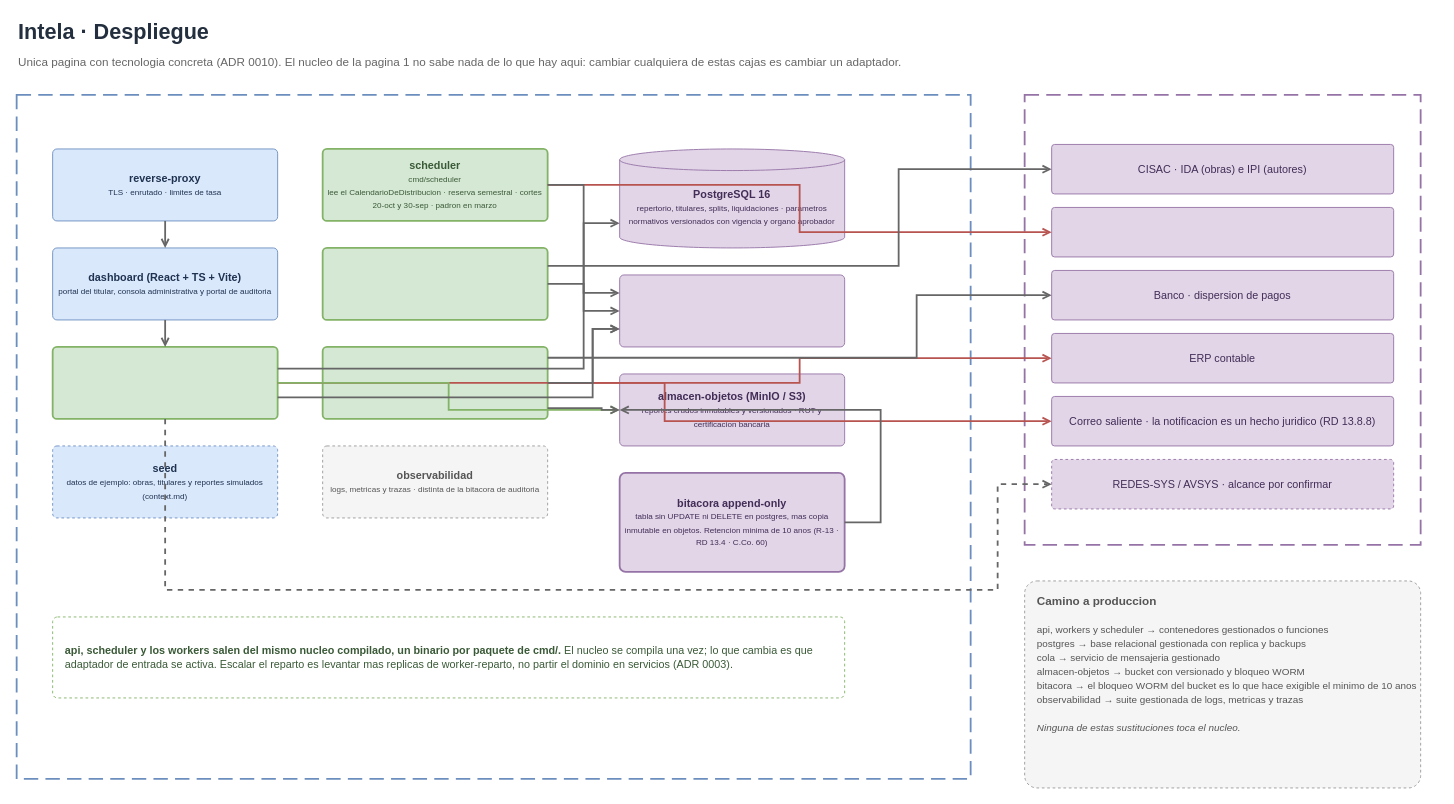
This 1454x804 diagram has some shape labels left out. The shapes that lost their labels are listed below. From the top down, each one's box as (x1, y1, x2, y2) in pixels, then its label:
(1051, 207, 1394, 257): Proveedor de rating por franja horaria
(321, 247, 548, 320): worker-matching cmd/worker cascada de identificacion de obras
(619, 274, 845, 347): cola (River sobre PostgreSQL) trabajos de matching y de reparto
(1023, 94, 1421, 545): Sistemas externos
(51, 346, 278, 419): api (Go · chi) adaptadores HTTP + nucleo
(321, 346, 548, 419): worker-reparto cmd/worker valorizacion y liquidacion por lotes
(15, 94, 971, 779): docker compose — despliegue reproducible exigido por context.md
